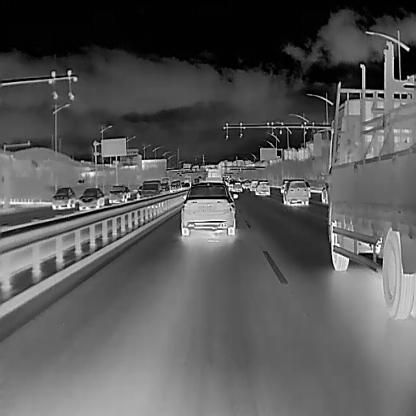car: (325, 81, 415, 320), (179, 181, 238, 237), (282, 178, 308, 207), (78, 187, 105, 212), (50, 184, 75, 209), (139, 177, 163, 202), (108, 183, 128, 204), (203, 167, 223, 188), (254, 179, 269, 195), (158, 176, 169, 193), (169, 180, 181, 194), (279, 177, 289, 193), (230, 182, 242, 192), (181, 180, 190, 192), (241, 180, 250, 189), (249, 180, 257, 190)
